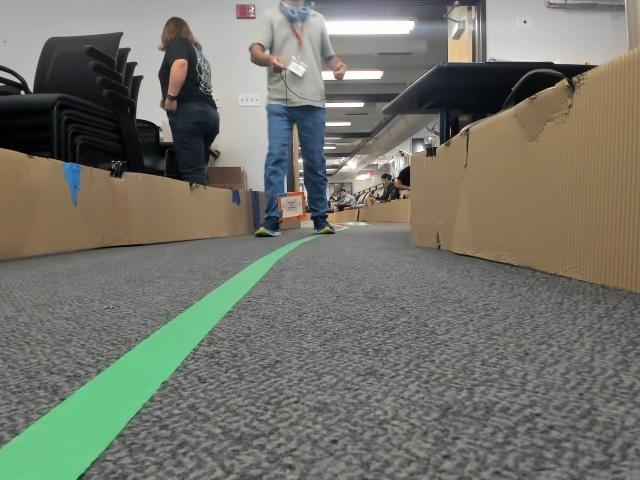Do Not Go Around: (282, 200, 299, 211)
